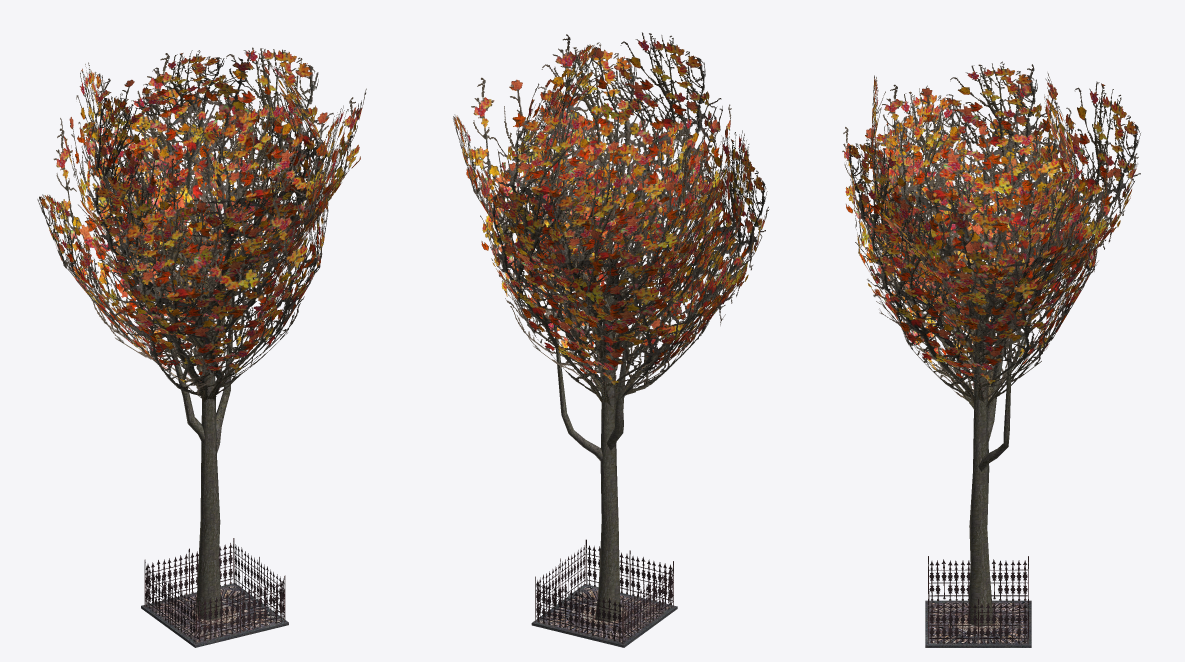
The model's file is tree3c_base_leaves.fbx.
3 views of the same model, side by side, from view 1: azimuth 30°, elevation 25°; view 2: azimuth 150°, elevation 25°; view 3: azimuth 270°, elevation 25° (orthographic).
Parts seen in each view (by area): view 1: mesh_0, mesh_2, mesh_1, mesh_3; view 2: mesh_0, mesh_2, mesh_1, mesh_3; view 3: mesh_0, mesh_1, mesh_2, mesh_3.
Boxes of the visible parts, left/top/right/bottom form: mesh_0: left=37, top=47, right=366, bottom=403; mesh_2: left=144, top=538, right=285, bottom=643; mesh_1: left=160, top=294, right=234, bottom=620; mesh_3: left=141, top=583, right=288, bottom=647; mesh_0: left=453, top=32, right=769, bottom=408; mesh_2: left=535, top=539, right=673, bottom=643; mesh_1: left=552, top=296, right=627, bottom=621; mesh_3: left=531, top=584, right=677, bottom=647; mesh_0: left=842, top=61, right=1140, bottom=411; mesh_1: left=968, top=305, right=1012, bottom=626; mesh_2: left=928, top=556, right=1028, bottom=644; mesh_3: left=925, top=600, right=1031, bottom=647.
Bounding box in the file's own units: 724 × 1175 × 666.
Materials: 4 (4 with a texture image).
